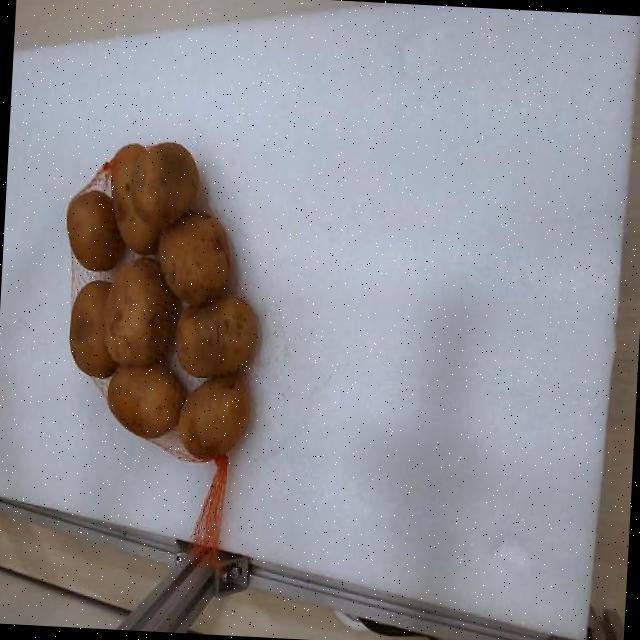potato: (67, 142, 200, 270), (104, 257, 178, 365), (158, 213, 230, 305), (177, 297, 256, 377), (109, 364, 184, 439), (179, 379, 251, 457), (112, 144, 161, 254), (70, 280, 117, 378)
